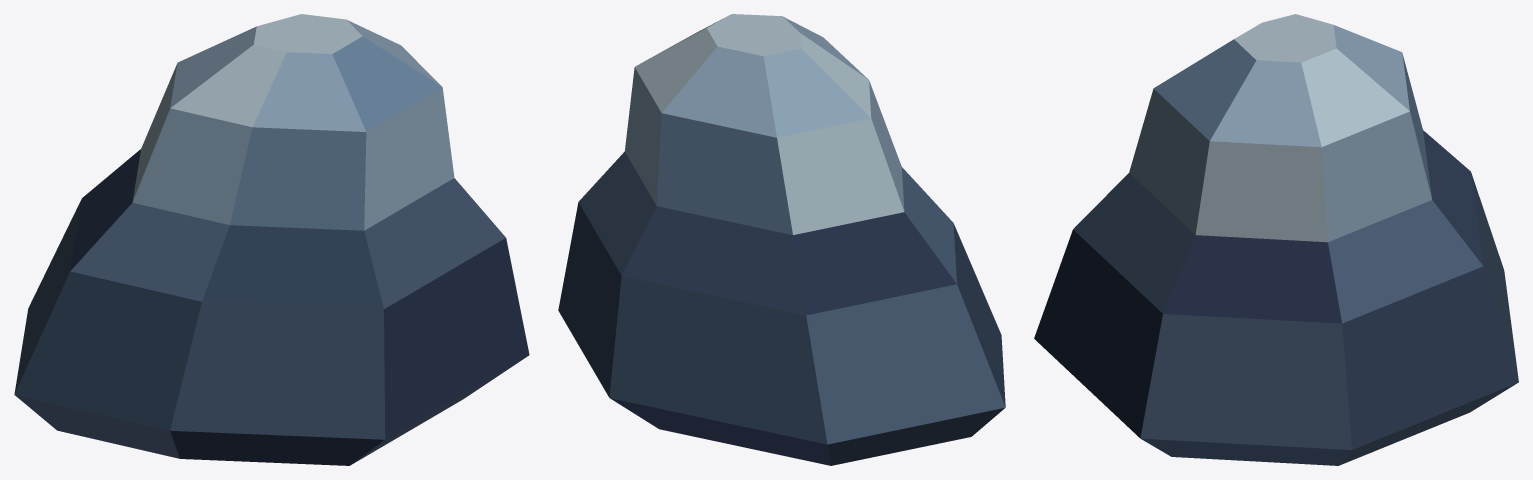
The model's file is mica-boulder.glb.
3 views of the same model, side by side, from view 1: azimuth 30°, elevation 25°; view 2: azimuth 150°, elevation 25°; view 3: azimuth 270°, elevation 25° (orthographic). The views are drawn at different scales.
Parts seen in each view (by area): view 1: mica-boulder; view 2: mica-boulder; view 3: mica-boulder.
Boxes of the visible parts, x1=… form: mica-boulder: x1=14, y1=14, x2=529, y2=465; mica-boulder: x1=558, y1=14, x2=1005, y2=465; mica-boulder: x1=1034, y1=14, x2=1518, y2=465.
Size of the model in its own units: 2.32 by 1.72 by 2.07.
